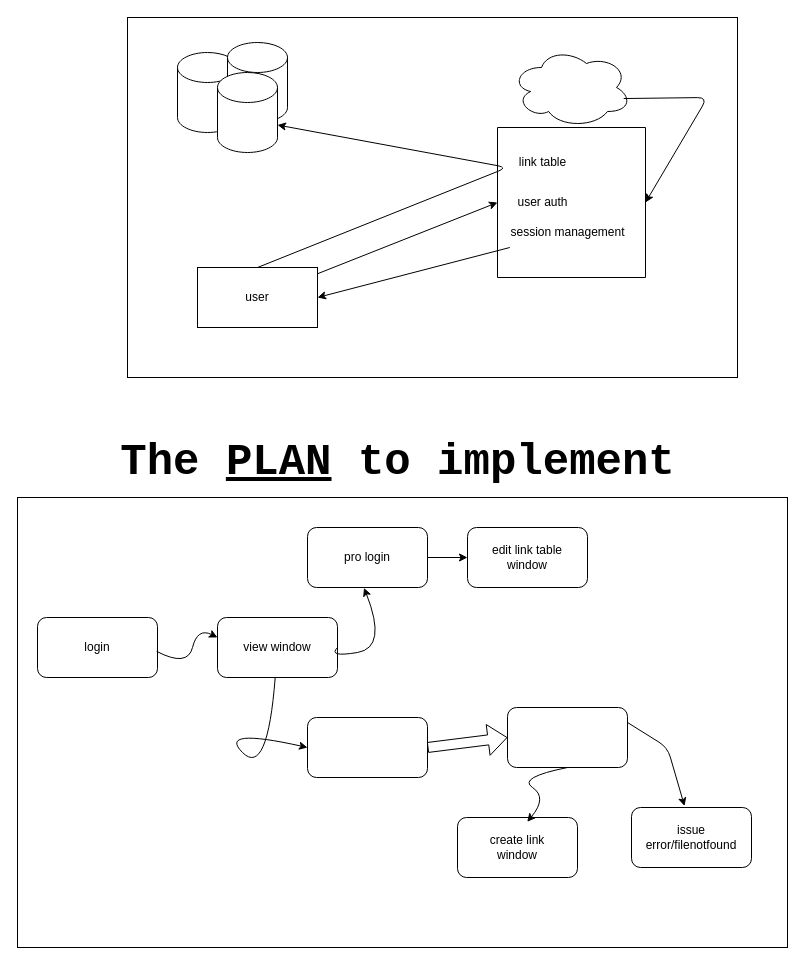
Some shapes in this 805 by 965 pixel diagram are drawn without their labels. Each missing label, with the centre of its shape:
gdrive: (247,112)
request window: (367,747)
supabase: (571,87)
user contact details: (567,737)
